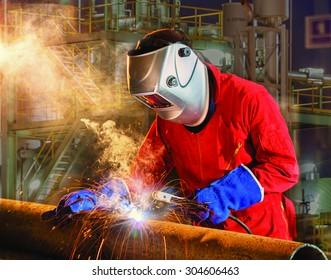gloves: (43, 174, 133, 230), (184, 162, 265, 224)
